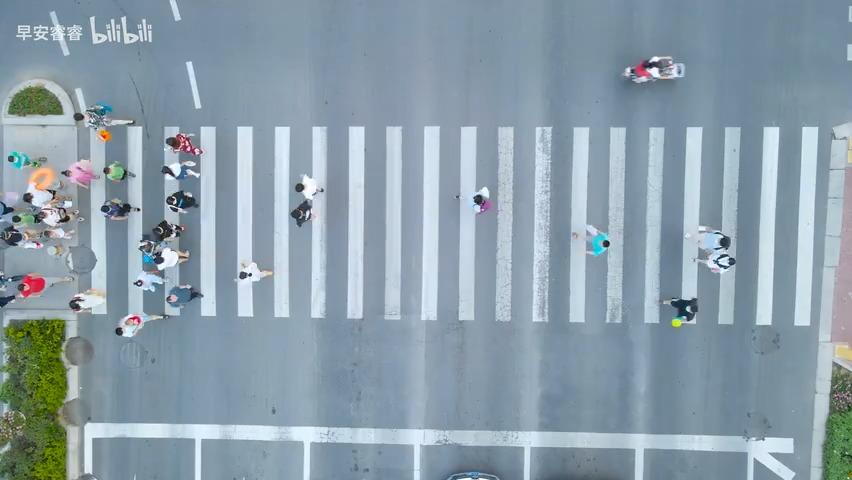Civilian: (684, 224, 736, 274), (69, 100, 135, 136), (289, 173, 324, 227), (158, 186, 214, 219), (623, 55, 679, 82), (17, 178, 61, 211), (114, 312, 169, 337), (571, 223, 610, 257), (5, 144, 50, 173), (0, 220, 38, 254), (60, 158, 100, 189), (21, 267, 58, 300), (35, 205, 77, 233), (151, 211, 187, 243), (453, 185, 490, 214), (661, 296, 698, 324), (98, 193, 135, 221), (68, 287, 105, 312), (165, 132, 204, 155), (129, 270, 162, 297), (157, 245, 185, 275), (165, 284, 203, 306), (238, 259, 273, 282), (161, 160, 200, 180), (102, 160, 136, 181), (289, 198, 313, 227), (471, 186, 490, 214)
